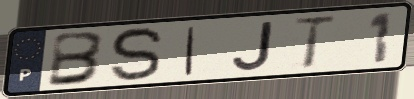1: (367, 10, 393, 65)
B: (44, 30, 109, 89)
I: (182, 25, 199, 77)
J: (230, 19, 276, 73)
S: (108, 25, 166, 85)
T: (290, 13, 339, 71)
